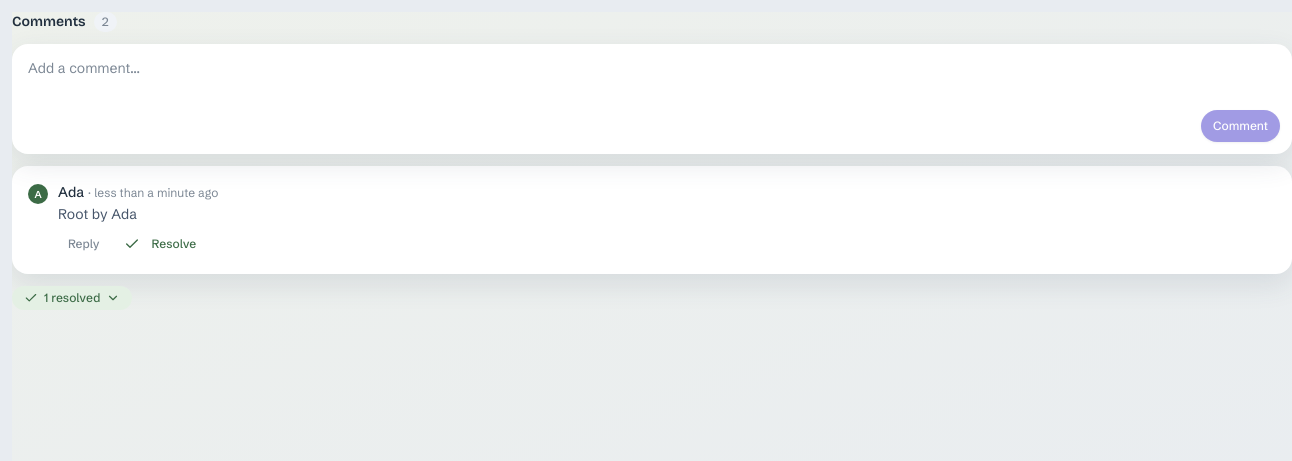
Test: CommentsSection › shows "Log decision" only on resolved roots when AI is enabled
Check: the text "Root by Ada" is shown, box [58,205,137,223]
Check: the button "Log decision" is not shown
Click the button "1 resolved" at {"x": 72, "y": 298}, box [12,286,132,310]
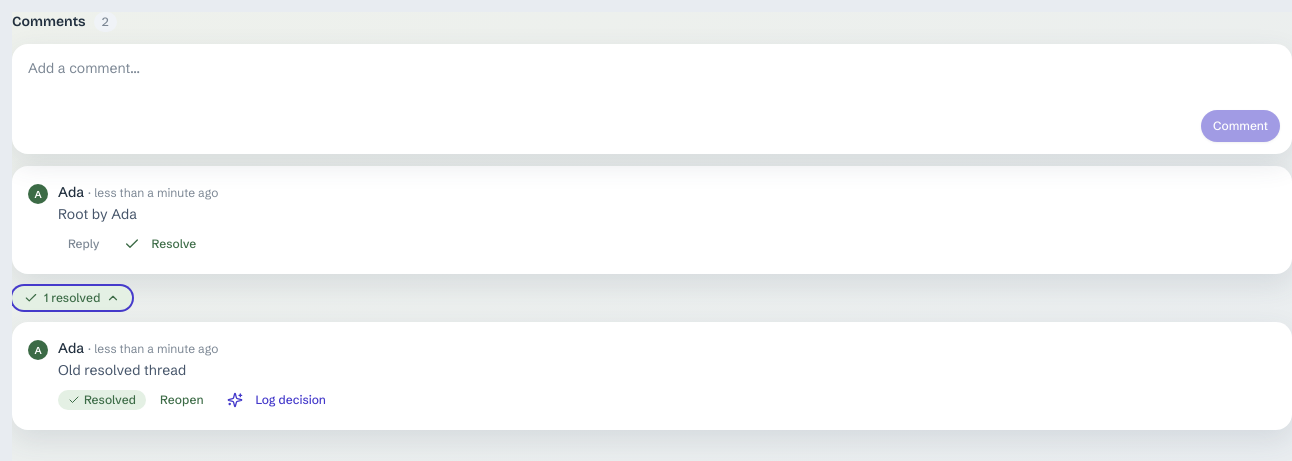
Check: the button "Log decision" is shown, box [218,386,336,414]
